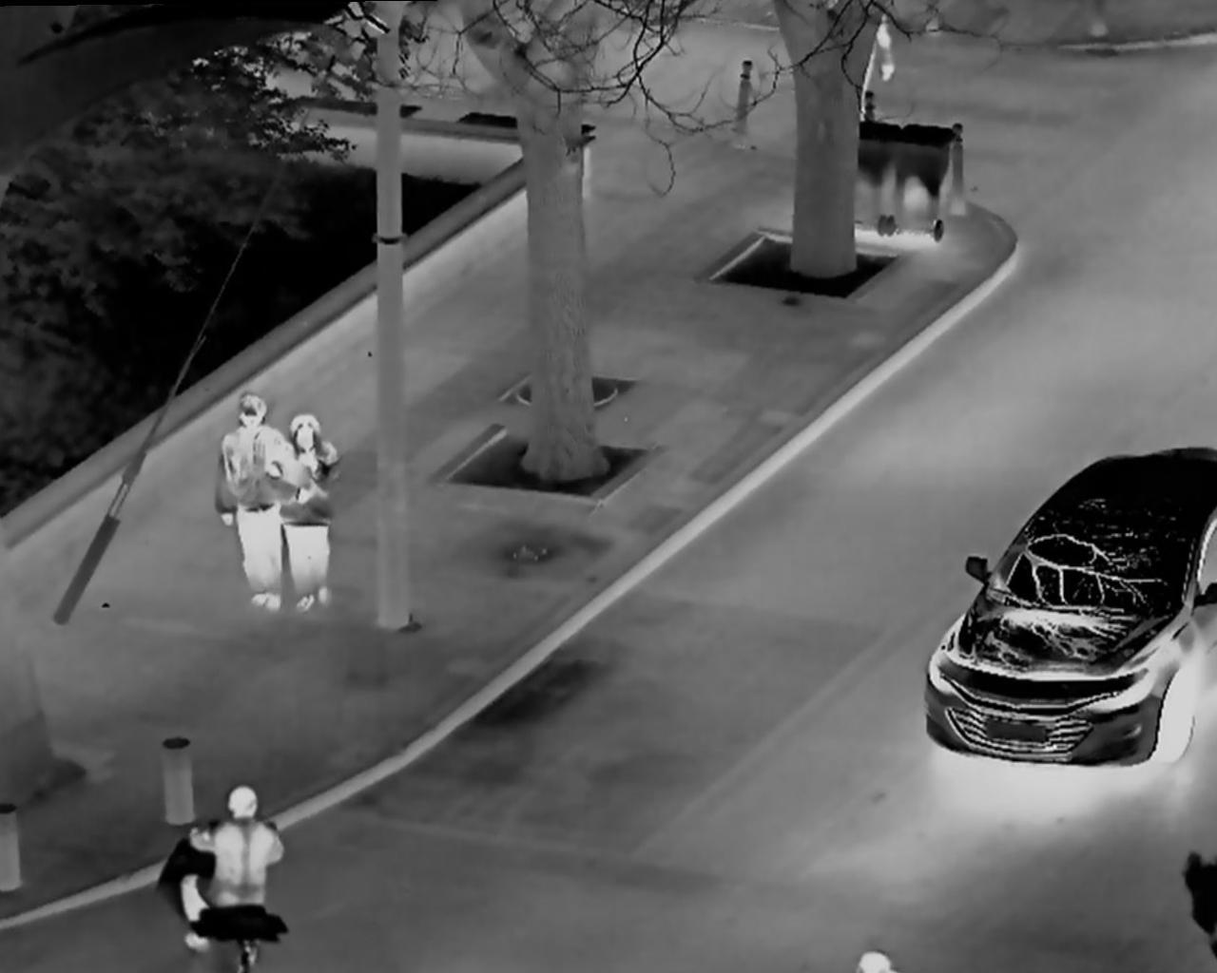person: (187, 774, 300, 952), (208, 385, 289, 616), (276, 410, 351, 649)
